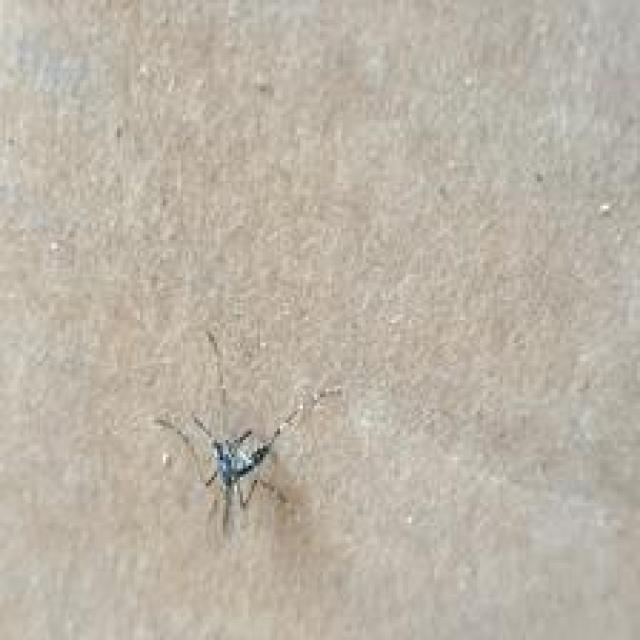Aedes albopictus: (153, 383, 338, 537)
